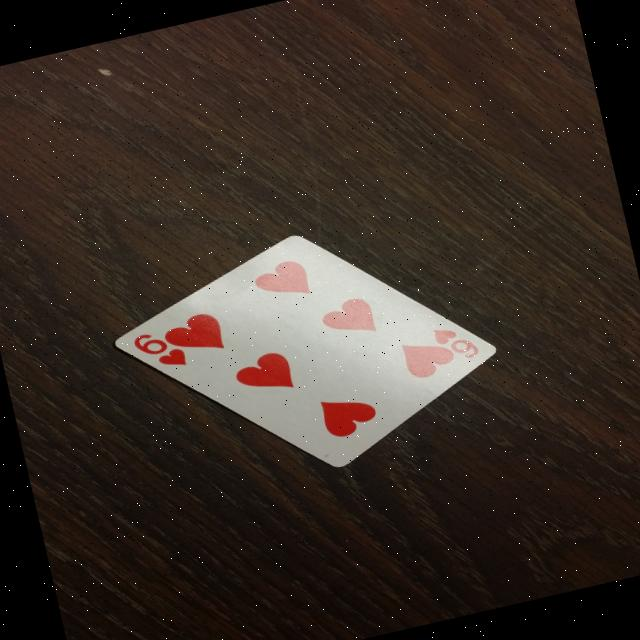6h: (120, 316, 196, 383), (429, 313, 484, 370)
